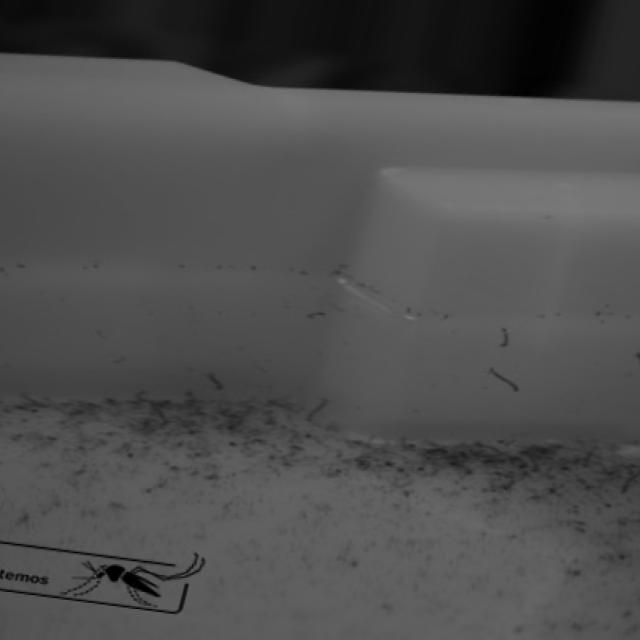larvas: (490, 367, 518, 393), (138, 387, 172, 407), (619, 463, 640, 493), (21, 390, 48, 410), (270, 398, 298, 415), (308, 399, 328, 421), (584, 444, 598, 469), (15, 401, 39, 413), (285, 398, 304, 412), (499, 326, 510, 349), (208, 372, 222, 388), (308, 310, 326, 320)
